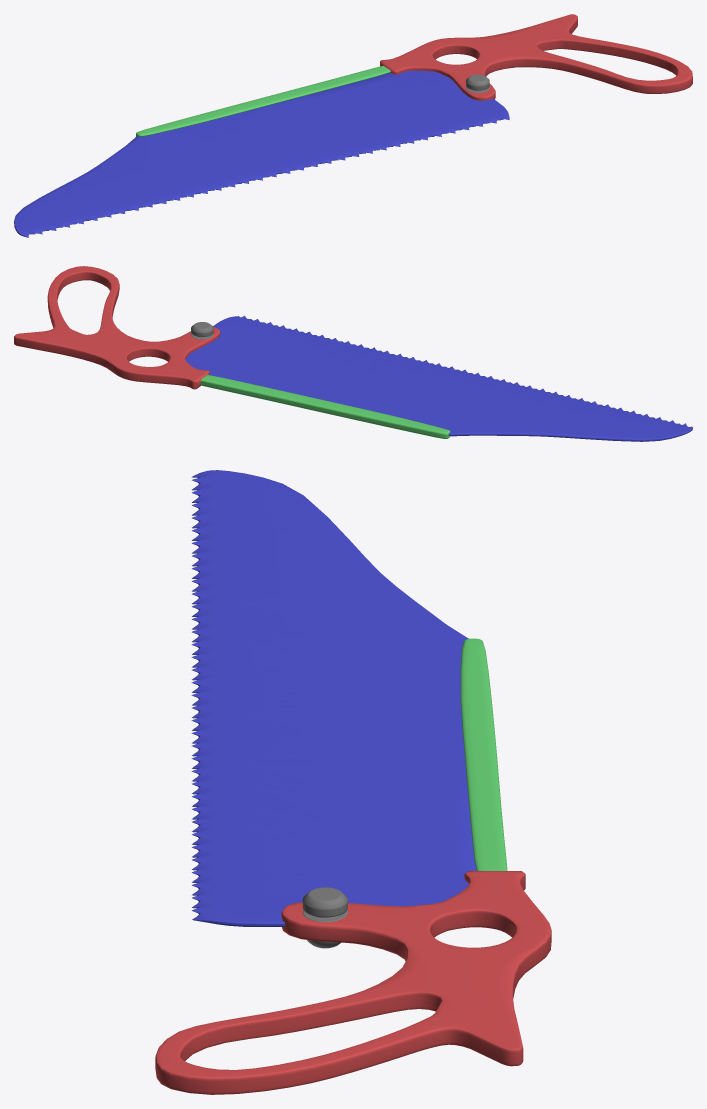
Rendered from Saw.fbx.
3 renders of one model, top to bottom at view 1: azimuth 30°, elevation 25°; view 2: azimuth 150°, elevation 25°; view 3: azimuth 270°, elevation 25°, orthographic. The views are drawn at different scales.
Visible parts, largest first — view 1: Saw_3, Saw_1, Saw_2, Saw_4; view 2: Saw_3, Saw_1, Saw_2, Saw_4; view 3: Saw_3, Saw_1, Saw_2, Saw_4.
Part boxes in pixels (left/top/right/bottom): Saw_3: left=14, top=70, right=509, bottom=237; Saw_1: left=380, top=14, right=692, bottom=100; Saw_2: left=136, top=65, right=390, bottom=136; Saw_4: left=466, top=74, right=489, bottom=92; Saw_3: left=185, top=315, right=692, bottom=441; Saw_1: left=14, top=266, right=220, bottom=389; Saw_2: left=200, top=375, right=450, bottom=438; Saw_4: left=191, top=322, right=213, bottom=339; Saw_3: left=191, top=470, right=476, bottom=926; Saw_1: left=155, top=871, right=551, bottom=1094; Saw_2: left=460, top=638, right=507, bottom=870; Saw_4: left=302, top=887, right=347, bottom=948.
Bounding box in the file's own units: 1003 × 37.93 × 273.
